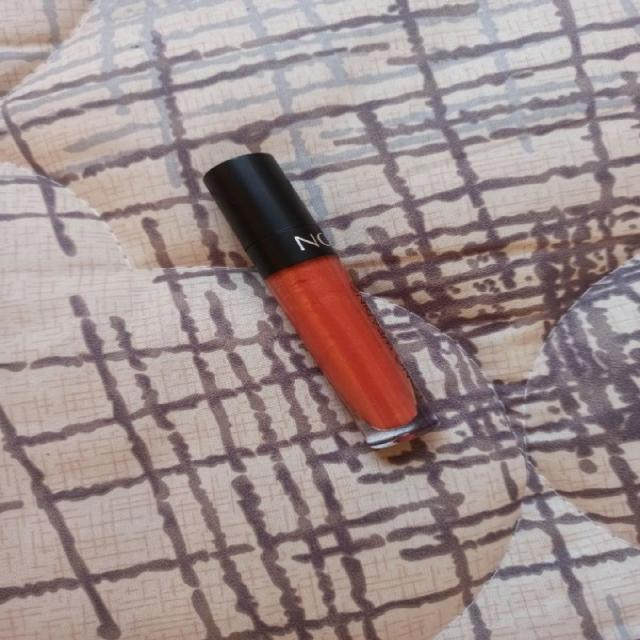lipstick: (201, 151, 439, 450)
